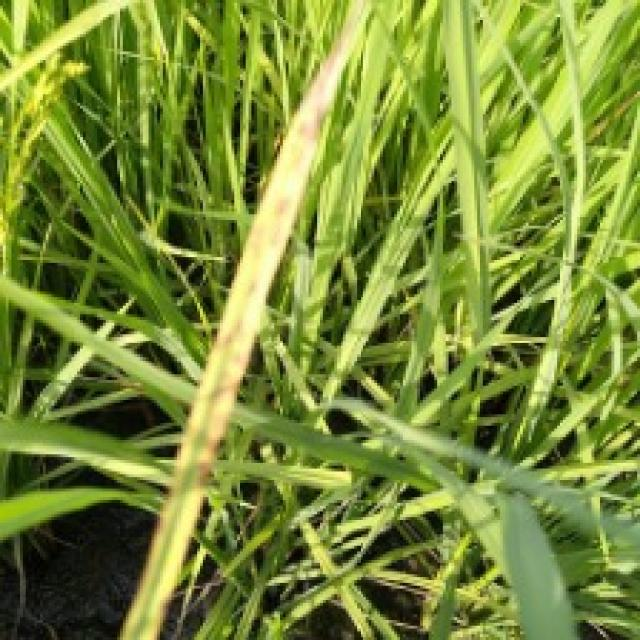Bacterial_Blight: (49, 0, 420, 640)
